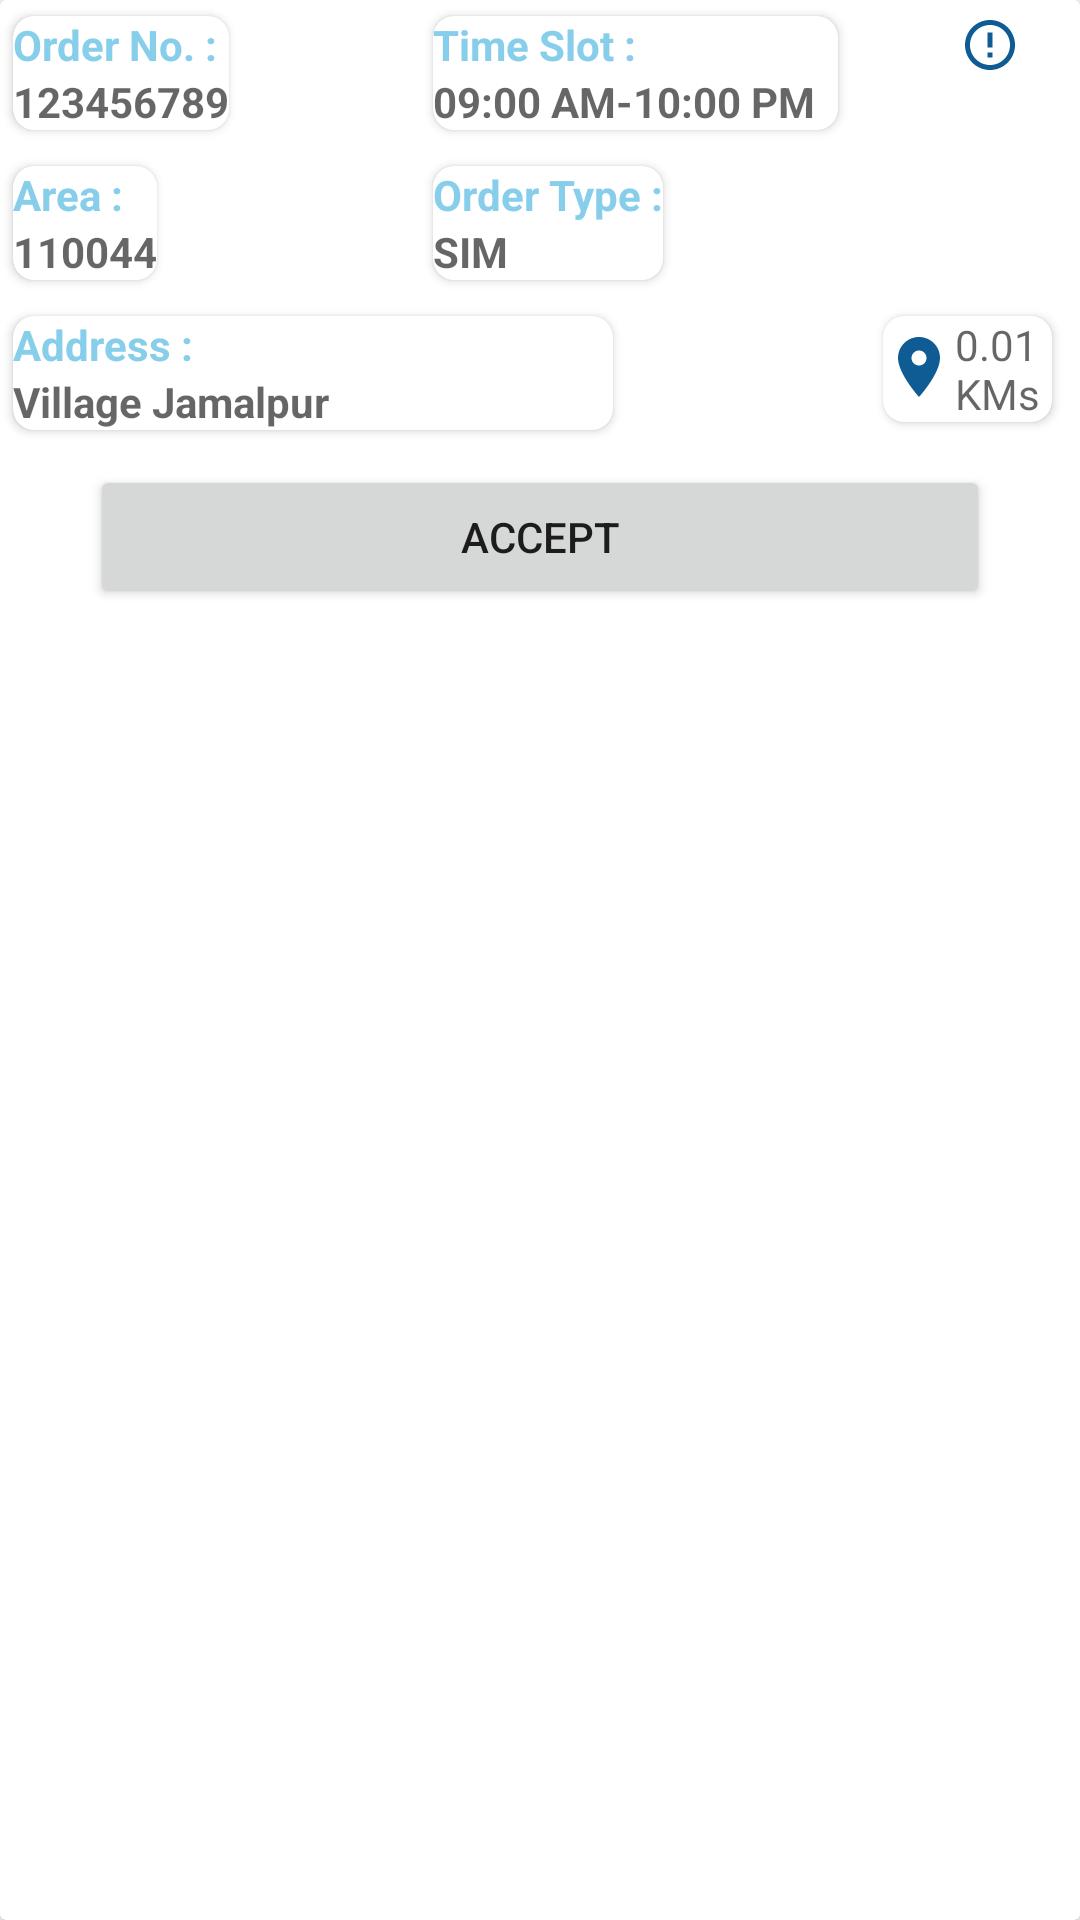

Icons on this 1080 x 1920 Android screen, each with its box as (x1, y1, x2, y2):
error: (965, 20, 1015, 70)
location on: (898, 337, 940, 397)
